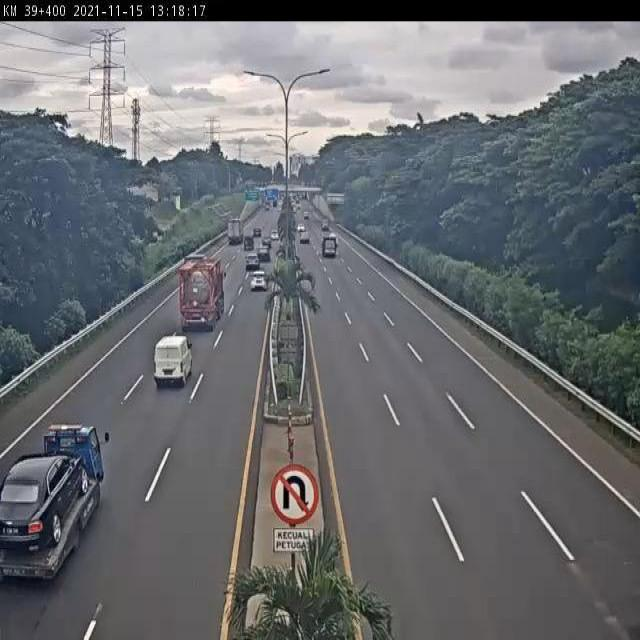bus-s-: (153, 334, 195, 386)
car: (250, 269, 269, 291)
truck-m-: (0, 421, 107, 576)
truck-xl-: (179, 259, 224, 332)
